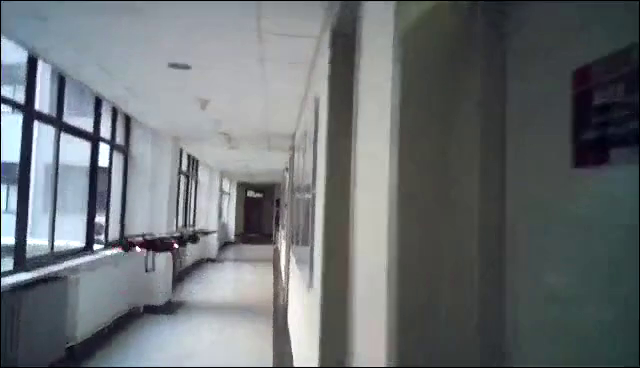drone: (103, 229, 219, 273)
